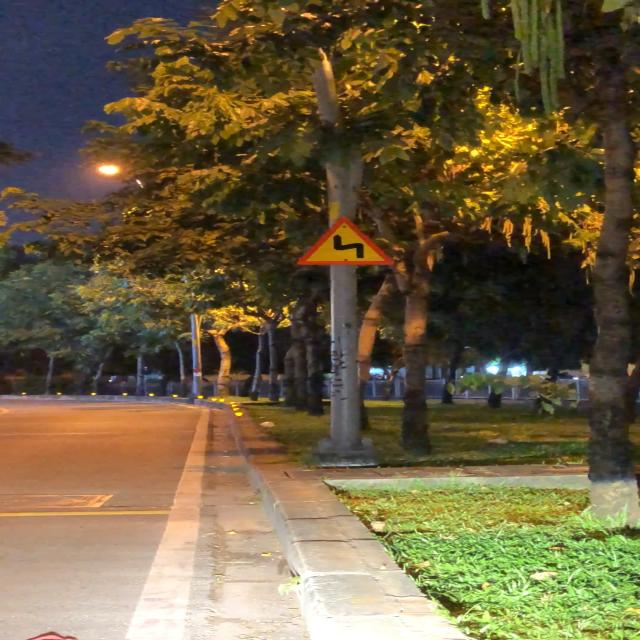Bien bao nhieu cho ngoat nguy hiem lien tiep: (288, 214, 404, 268)
